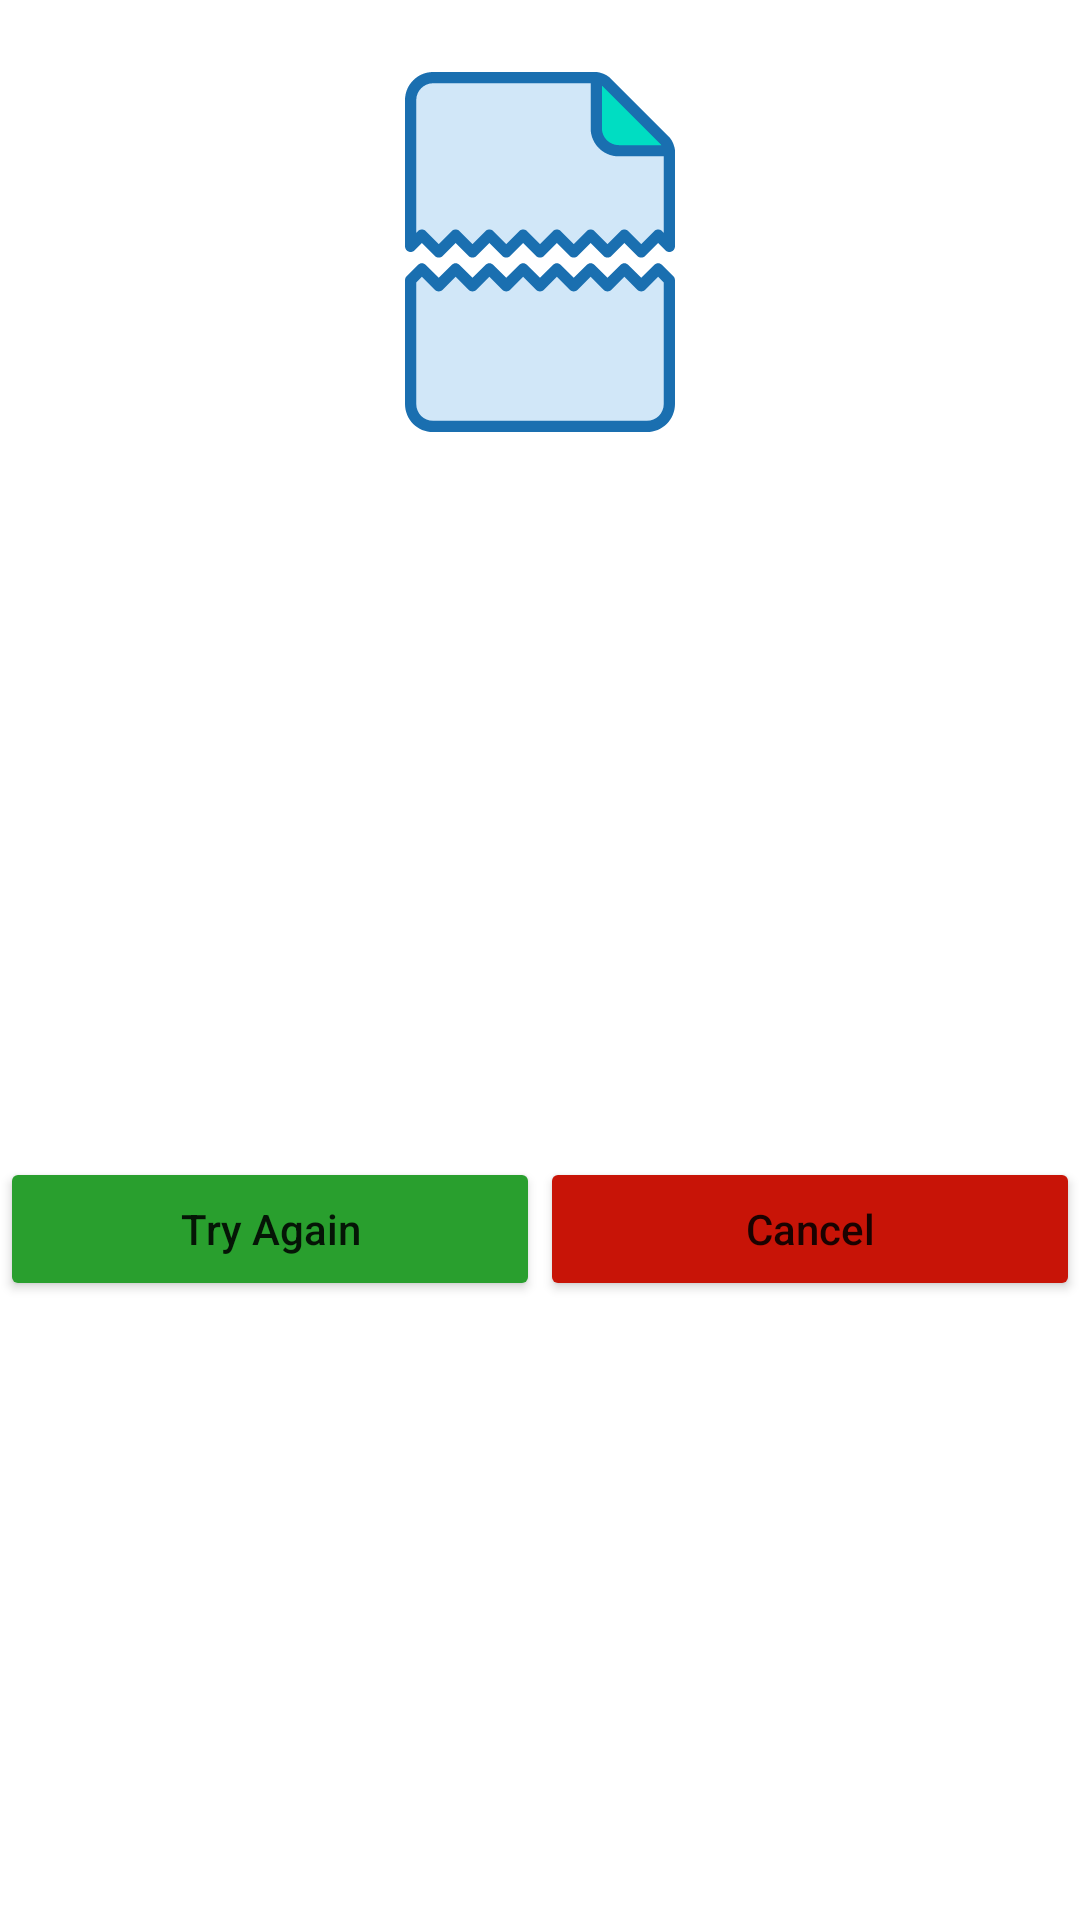

Named icons in this screenshot (1080 x 1920) and their centers, (x=x, y=y):
error: (x=540, y=252)
